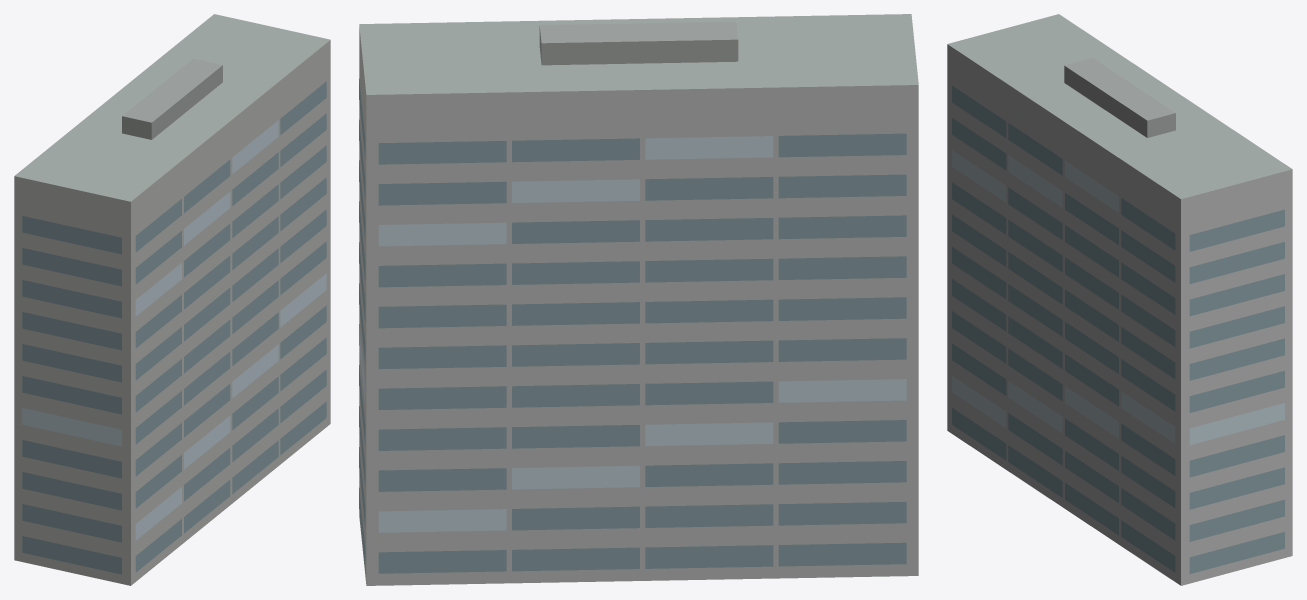
File: fallback-godeok-ipark-extension-111.glb
3 views of the same model, side by side, from view 1: azimuth 30°, elevation 25°; view 2: azimuth 150°, elevation 25°; view 3: azimuth 270°, elevation 25° (orthographic). The views are drawn at different scales.
Parts seen in each view (by area): view 1: fallback-godeok-ipark-extension-111; view 2: fallback-godeok-ipark-extension-111; view 3: fallback-godeok-ipark-extension-111.
Boxes of the visible parts, x1=… form: fallback-godeok-ipark-extension-111: x1=14, y1=14, x2=330, y2=585; fallback-godeok-ipark-extension-111: x1=359, y1=14, x2=918, y2=585; fallback-godeok-ipark-extension-111: x1=947, y1=14, x2=1292, y2=585.
Size of the model in its own units: 37.61 by 38.25 by 29.63.
